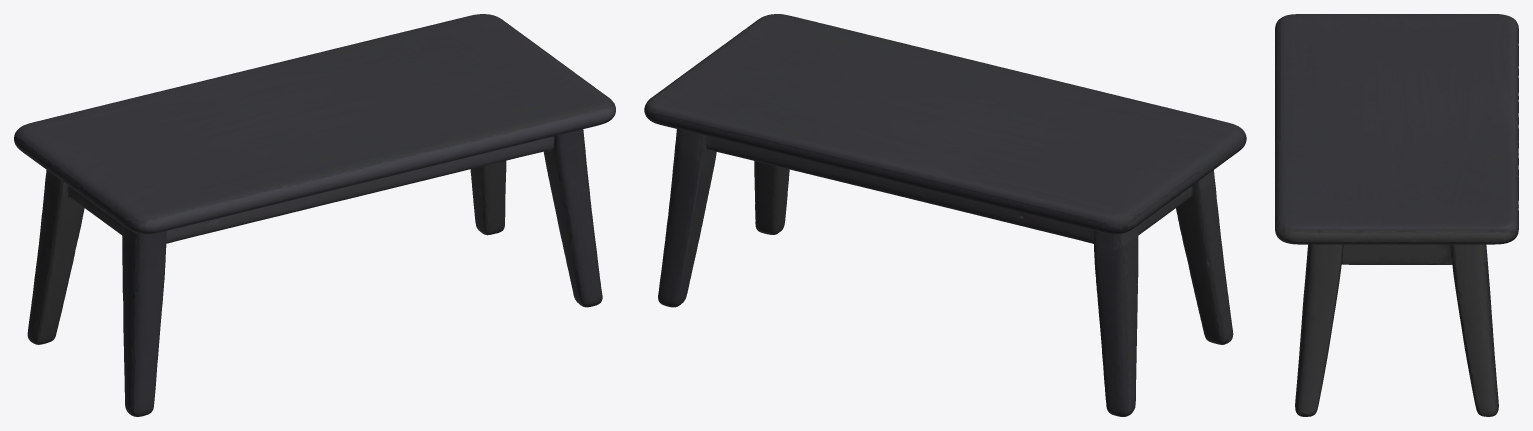
Rendered from L_COFFEE.cyberpunk.glb.
The picture shows the model from 3 angles, left to right: view 1: azimuth 30°, elevation 25°; view 2: azimuth 150°, elevation 25°; view 3: azimuth 270°, elevation 25°; orthographic projection. The views are drawn at different scales.
Parts seen in each view (by area): view 1: geometry_0; view 2: geometry_0; view 3: geometry_0.
Boxes of the visible parts, box(x1,y1,x2,y2) form: geometry_0: box(14, 14, 615, 416); geometry_0: box(644, 14, 1246, 416); geometry_0: box(1275, 14, 1518, 416).
Bounding box in the file's own units: 1.2 × 0.4917 × 0.5634.
1 material, 1 textured.
